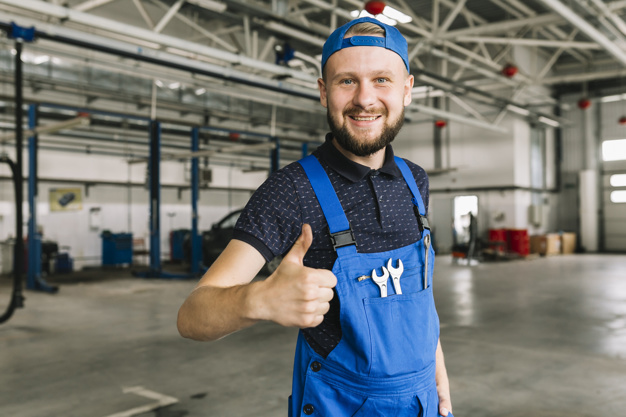thumbsup: (286, 223, 337, 329)
